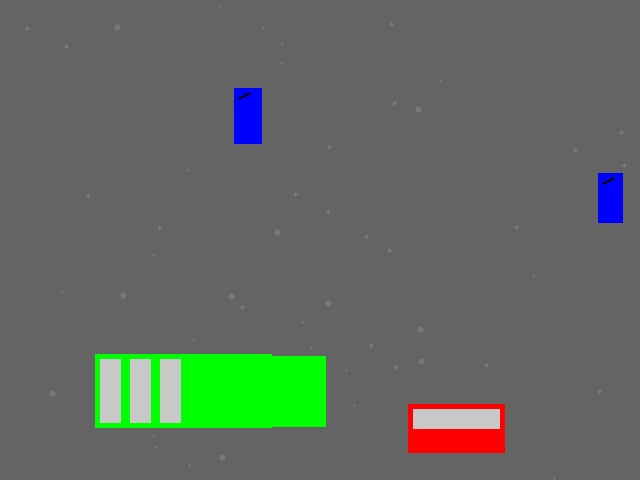bus: (95, 354, 271, 427), (156, 356, 325, 426)
car: (408, 404, 504, 452)
motorcycle: (234, 88, 261, 143), (598, 173, 622, 222)
